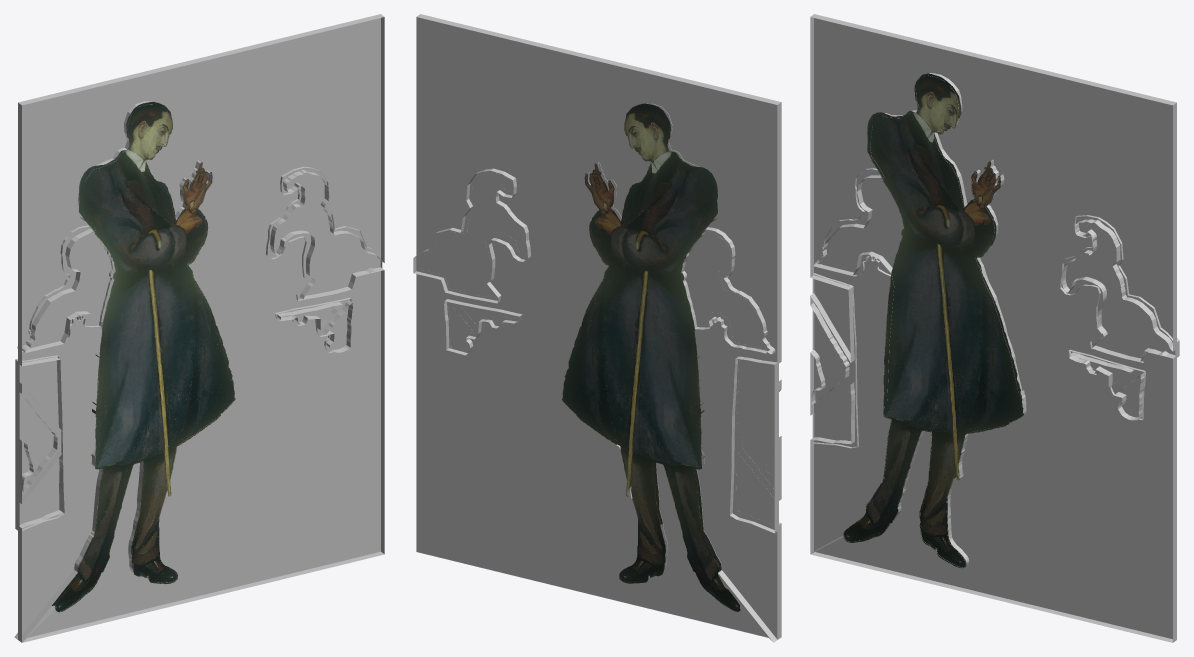
Rendered from Retrato de Adolfo(por capas).fbx.
3 renders of one model, left to right at view 1: azimuth 30°, elevation 25°; view 2: azimuth 150°, elevation 25°; view 3: azimuth 330°, elevation 25°, orthographic.
Parts seen in each view (by area): view 1: Fondo, Personaje, Humo; view 2: Fondo, Personaje, Humo; view 3: Fondo, Personaje, Humo.
Boxes of the visible parts, box(x1,y1,x2,y2) form: Fondo: box(14, 14, 384, 642); Personaje: box(52, 102, 235, 612); Humo: box(15, 166, 382, 530); Fondo: box(416, 14, 781, 642); Personaje: box(562, 103, 740, 611); Humo: box(413, 168, 778, 533); Fondo: box(810, 14, 1176, 642); Personaje: box(843, 73, 1023, 568); Humo: box(812, 168, 1179, 448).
Size of the model in its own units: 226 by 320 by 8.49.
